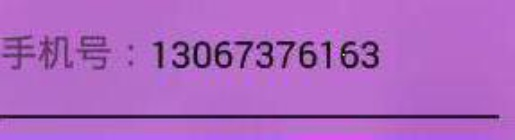EditText: (1, 1, 514, 139)
